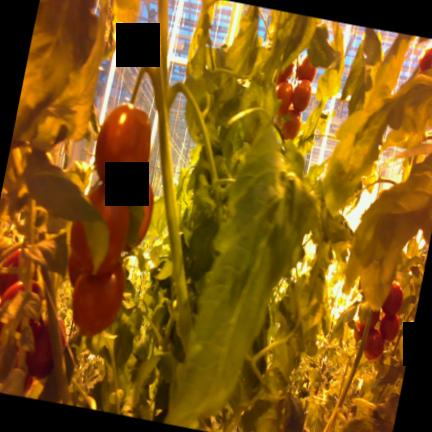MainStem: (154, 0, 193, 352), (324, 312, 375, 432), (44, 272, 71, 404)
tomato: (71, 185, 129, 275), (95, 103, 151, 196), (73, 263, 125, 336), (26, 319, 66, 379), (135, 177, 153, 244), (354, 321, 384, 360), (0, 249, 21, 296), (382, 281, 403, 315), (364, 328, 384, 360), (0, 280, 24, 306), (292, 79, 311, 111), (276, 80, 293, 115), (282, 109, 301, 139), (379, 314, 400, 341), (297, 57, 317, 81), (68, 253, 83, 285), (277, 62, 294, 84), (419, 47, 432, 71), (370, 310, 380, 328)
